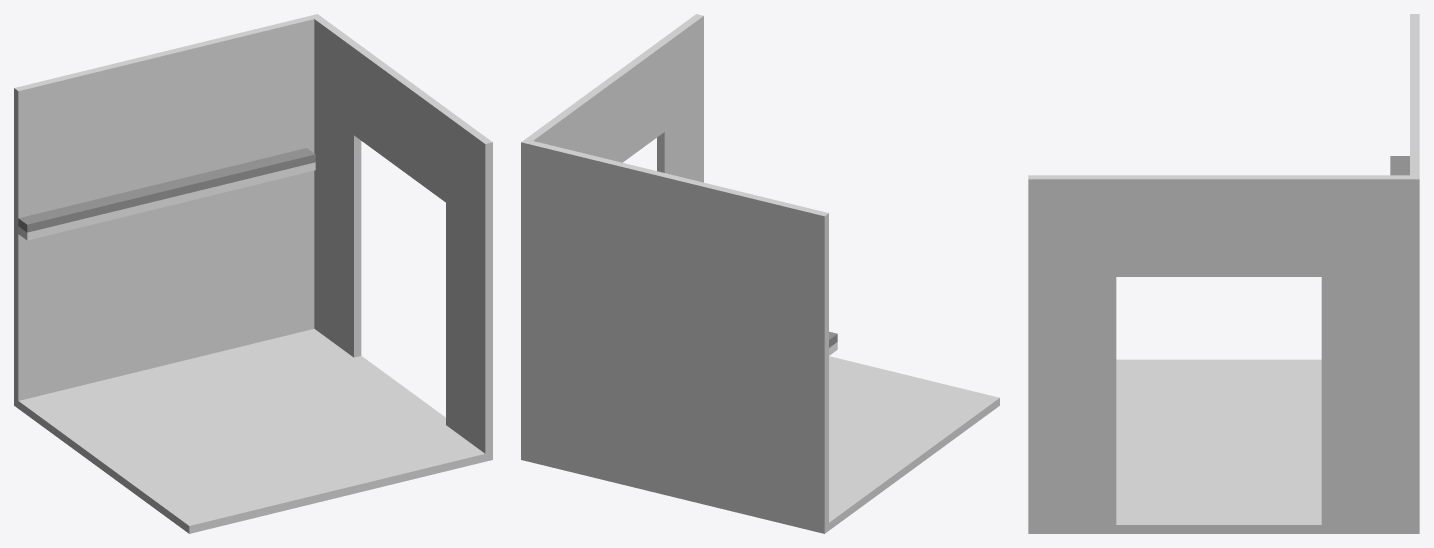
The model's file is Wall_for_door_Ver2.obj.
The picture shows the model from 3 angles, left to right: view 1: azimuth 30°, elevation 25°; view 2: azimuth 150°, elevation 25°; view 3: azimuth 270°, elevation 25°; orthographic projection. The views are drawn at different scales.
Bounding box in the file's own units: 4 × 4 × 4.
1 material, 1 textured.
